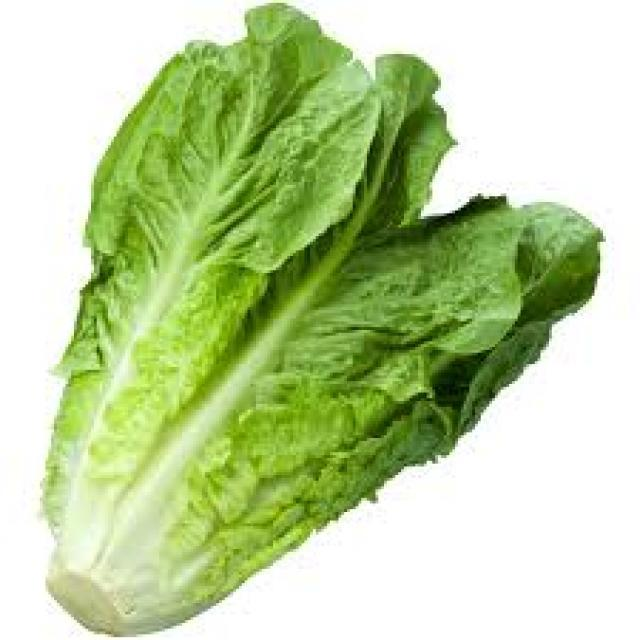Lettuce: (40, 6, 601, 640)
